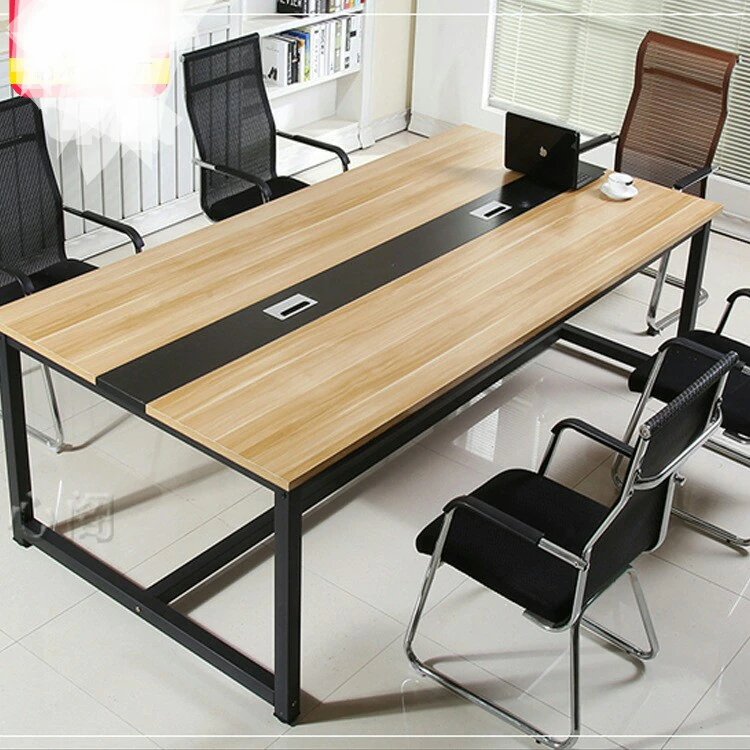conference_table: (1, 122, 723, 490)
